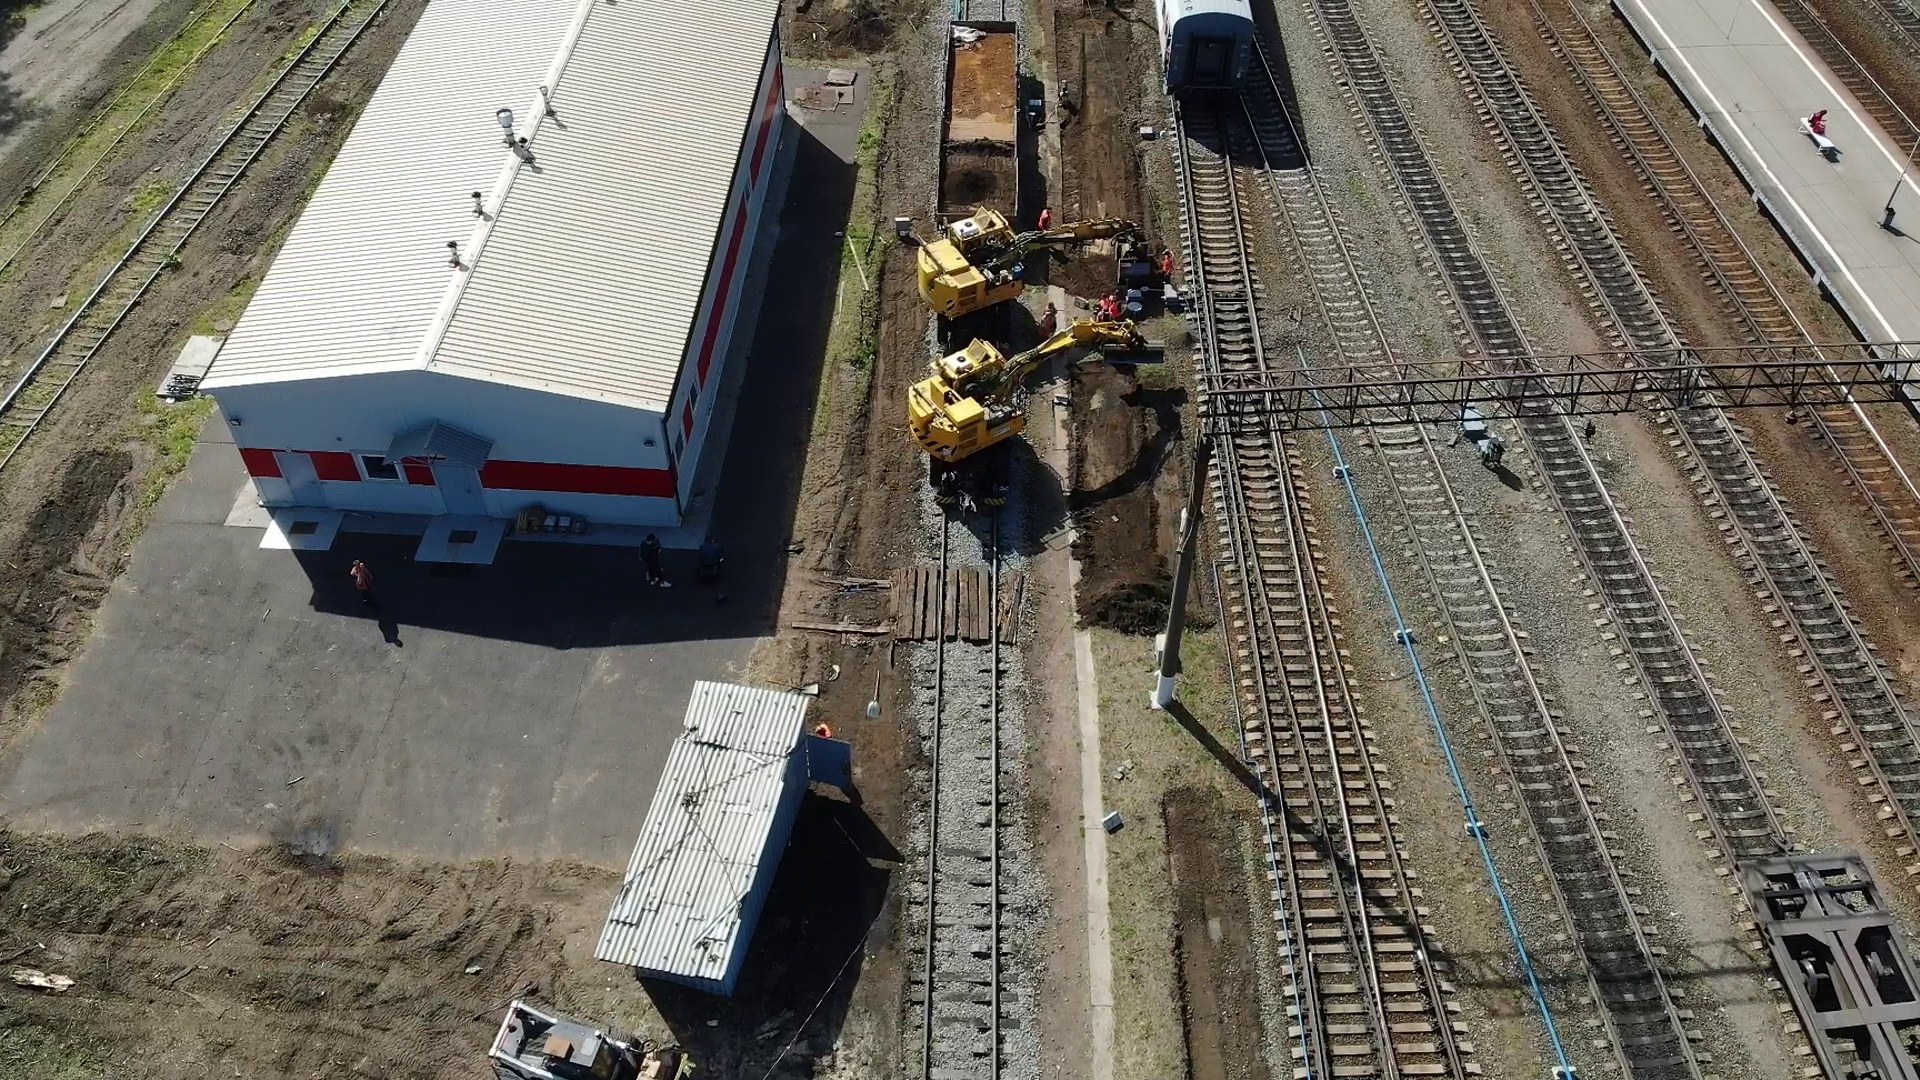kjtv: (910, 333, 1073, 506), (919, 206, 1083, 321)
